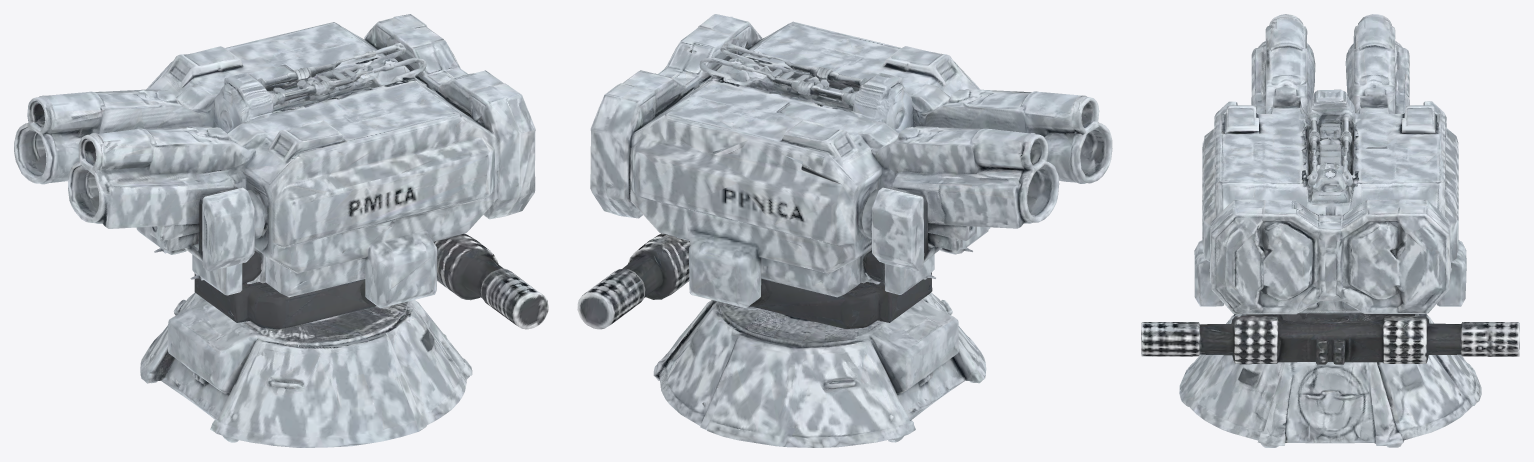
File: turret-winter.glb
The picture shows the model from 3 angles, left to right: view 1: azimuth 30°, elevation 25°; view 2: azimuth 150°, elevation 25°; view 3: azimuth 270°, elevation 25°; orthographic projection. The views are drawn at different scales.
Bounding box in the file's own units: 2 × 1.46 × 1.79.
Materials: 1 (1 with a texture image).
